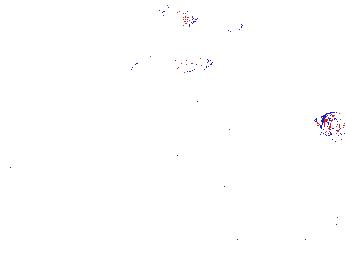X-ray fish: (312, 109, 346, 135)
glassfish: (271, 132, 338, 150)
redtail glassfish: (118, 46, 214, 78), (179, 6, 246, 33)
